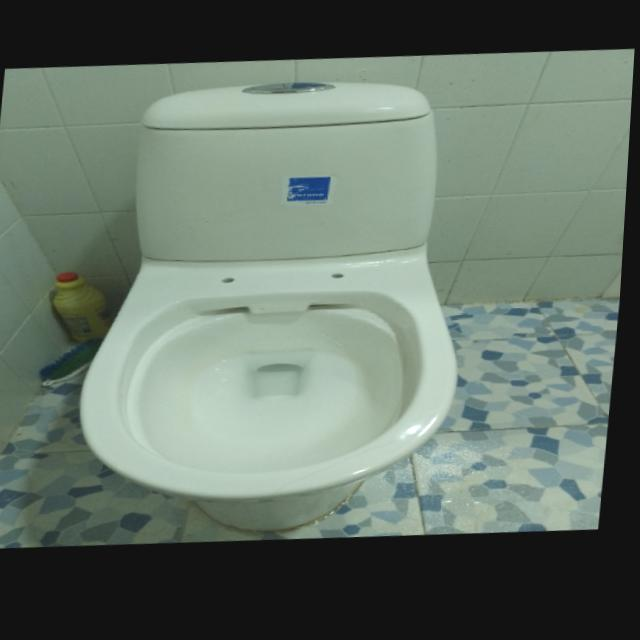toilet: (72, 68, 487, 551)
